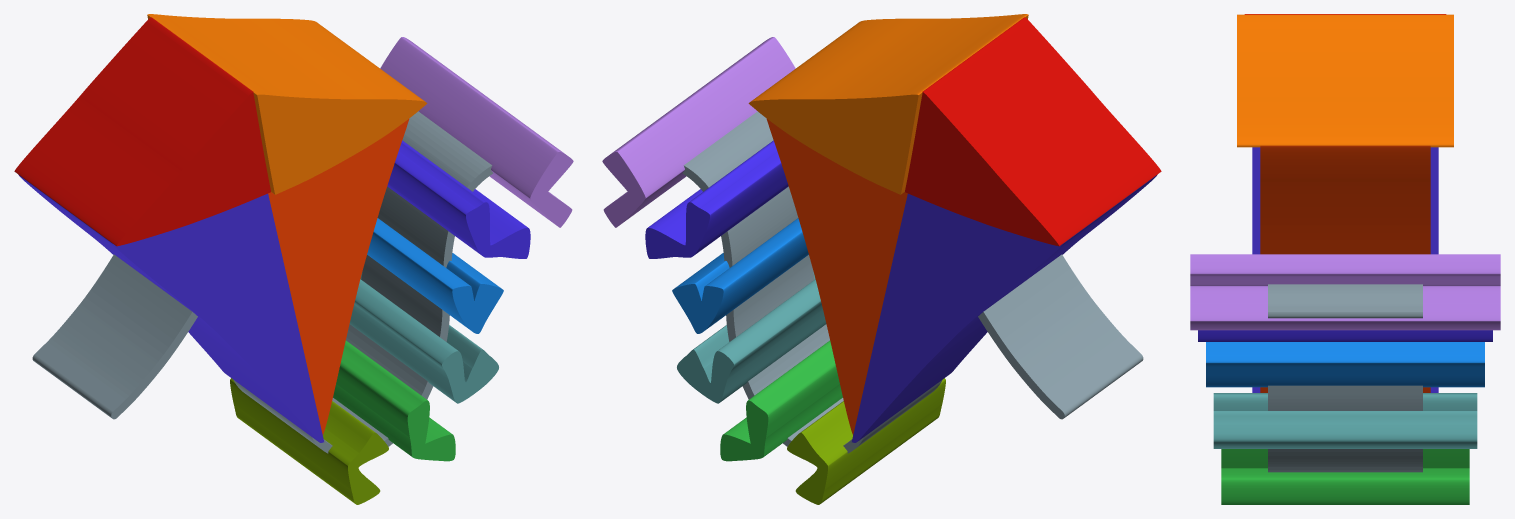
The picture shows the model from 3 angles, left to right: view 1: azimuth 30°, elevation 25°; view 2: azimuth 150°, elevation 25°; view 3: azimuth 270°, elevation 25°; orthographic projection.
Parts seen in each view (by area): view 1: U+1FA81_layer03_obj00, U+1FA81_layer02_obj00, U+1FA81_layer04_obj00, U+1FA81_layer01_obj00, U+1FA81_layer00_obj02, U+1FA81_layer10_obj00, U+1FA81_layer00_obj00, U+1FA81_layer07_obj00, U+1FA81_layer09_obj00, U+1FA81_layer06_obj00, U+1FA81_layer05_obj00, U+1FA81_layer08_obj00; view 2: U+1FA81_layer03_obj00, U+1FA81_layer02_obj00, U+1FA81_layer04_obj00, U+1FA81_layer01_obj00, U+1FA81_layer00_obj02, U+1FA81_layer10_obj00, U+1FA81_layer00_obj00, U+1FA81_layer07_obj00, U+1FA81_layer09_obj00, U+1FA81_layer06_obj00, U+1FA81_layer05_obj00, U+1FA81_layer08_obj00; view 3: U+1FA81_layer04_obj00, U+1FA81_layer01_obj00, U+1FA81_layer10_obj00, U+1FA81_layer00_obj00, U+1FA81_layer08_obj00, U+1FA81_layer07_obj00, U+1FA81_layer06_obj00, U+1FA81_layer09_obj00, U+1FA81_layer02_obj00.
Boxes of the visible parts, x1,y1,x2,y2 form: U+1FA81_layer03_obj00: (14, 17, 270, 246); U+1FA81_layer02_obj00: (18, 174, 323, 442); U+1FA81_layer04_obj00: (147, 14, 427, 194); U+1FA81_layer01_obj00: (268, 119, 409, 435); U+1FA81_layer00_obj02: (32, 254, 197, 419); U+1FA81_layer10_obj00: (380, 37, 573, 227); U+1FA81_layer00_obj00: (233, 111, 493, 453); U+1FA81_layer07_obj00: (349, 272, 498, 403); U+1FA81_layer09_obj00: (387, 140, 530, 258); U+1FA81_layer06_obj00: (333, 340, 455, 461); U+1FA81_layer05_obj00: (230, 378, 388, 504); U+1FA81_layer08_obj00: (367, 218, 503, 333); U+1FA81_layer03_obj00: (905, 17, 1161, 246); U+1FA81_layer02_obj00: (852, 174, 1157, 442); U+1FA81_layer04_obj00: (748, 14, 1028, 194); U+1FA81_layer01_obj00: (766, 119, 907, 435); U+1FA81_layer00_obj02: (978, 254, 1143, 419); U+1FA81_layer10_obj00: (602, 37, 795, 227); U+1FA81_layer00_obj00: (682, 111, 942, 453); U+1FA81_layer07_obj00: (677, 272, 826, 403); U+1FA81_layer09_obj00: (645, 140, 788, 258); U+1FA81_layer06_obj00: (720, 340, 842, 461); U+1FA81_layer05_obj00: (787, 378, 945, 504); U+1FA81_layer08_obj00: (672, 218, 808, 333); U+1FA81_layer04_obj00: (1237, 14, 1453, 147); U+1FA81_layer01_obj00: (1260, 145, 1430, 392); U+1FA81_layer10_obj00: (1190, 254, 1500, 330); U+1FA81_layer00_obj00: (1268, 284, 1422, 472); U+1FA81_layer08_obj00: (1206, 342, 1484, 387); U+1FA81_layer07_obj00: (1213, 393, 1477, 448); U+1FA81_layer06_obj00: (1221, 449, 1469, 504); U+1FA81_layer09_obj00: (1198, 330, 1492, 341); U+1FA81_layer02_obj00: (1252, 147, 1438, 392).
Bounding box in the file's own units: 0.3215 × 0.3025 × 0.2.
